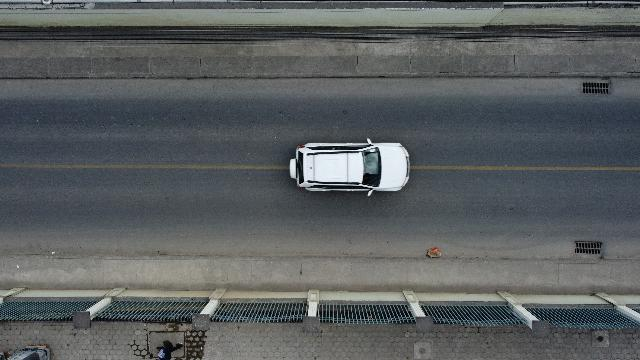Vehiculo: (290, 138, 410, 196)
